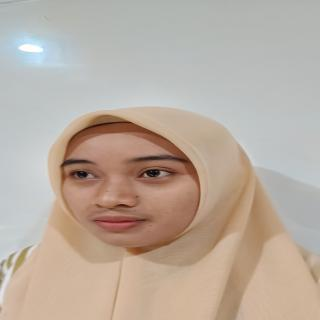Netral: (47, 112, 228, 257)
